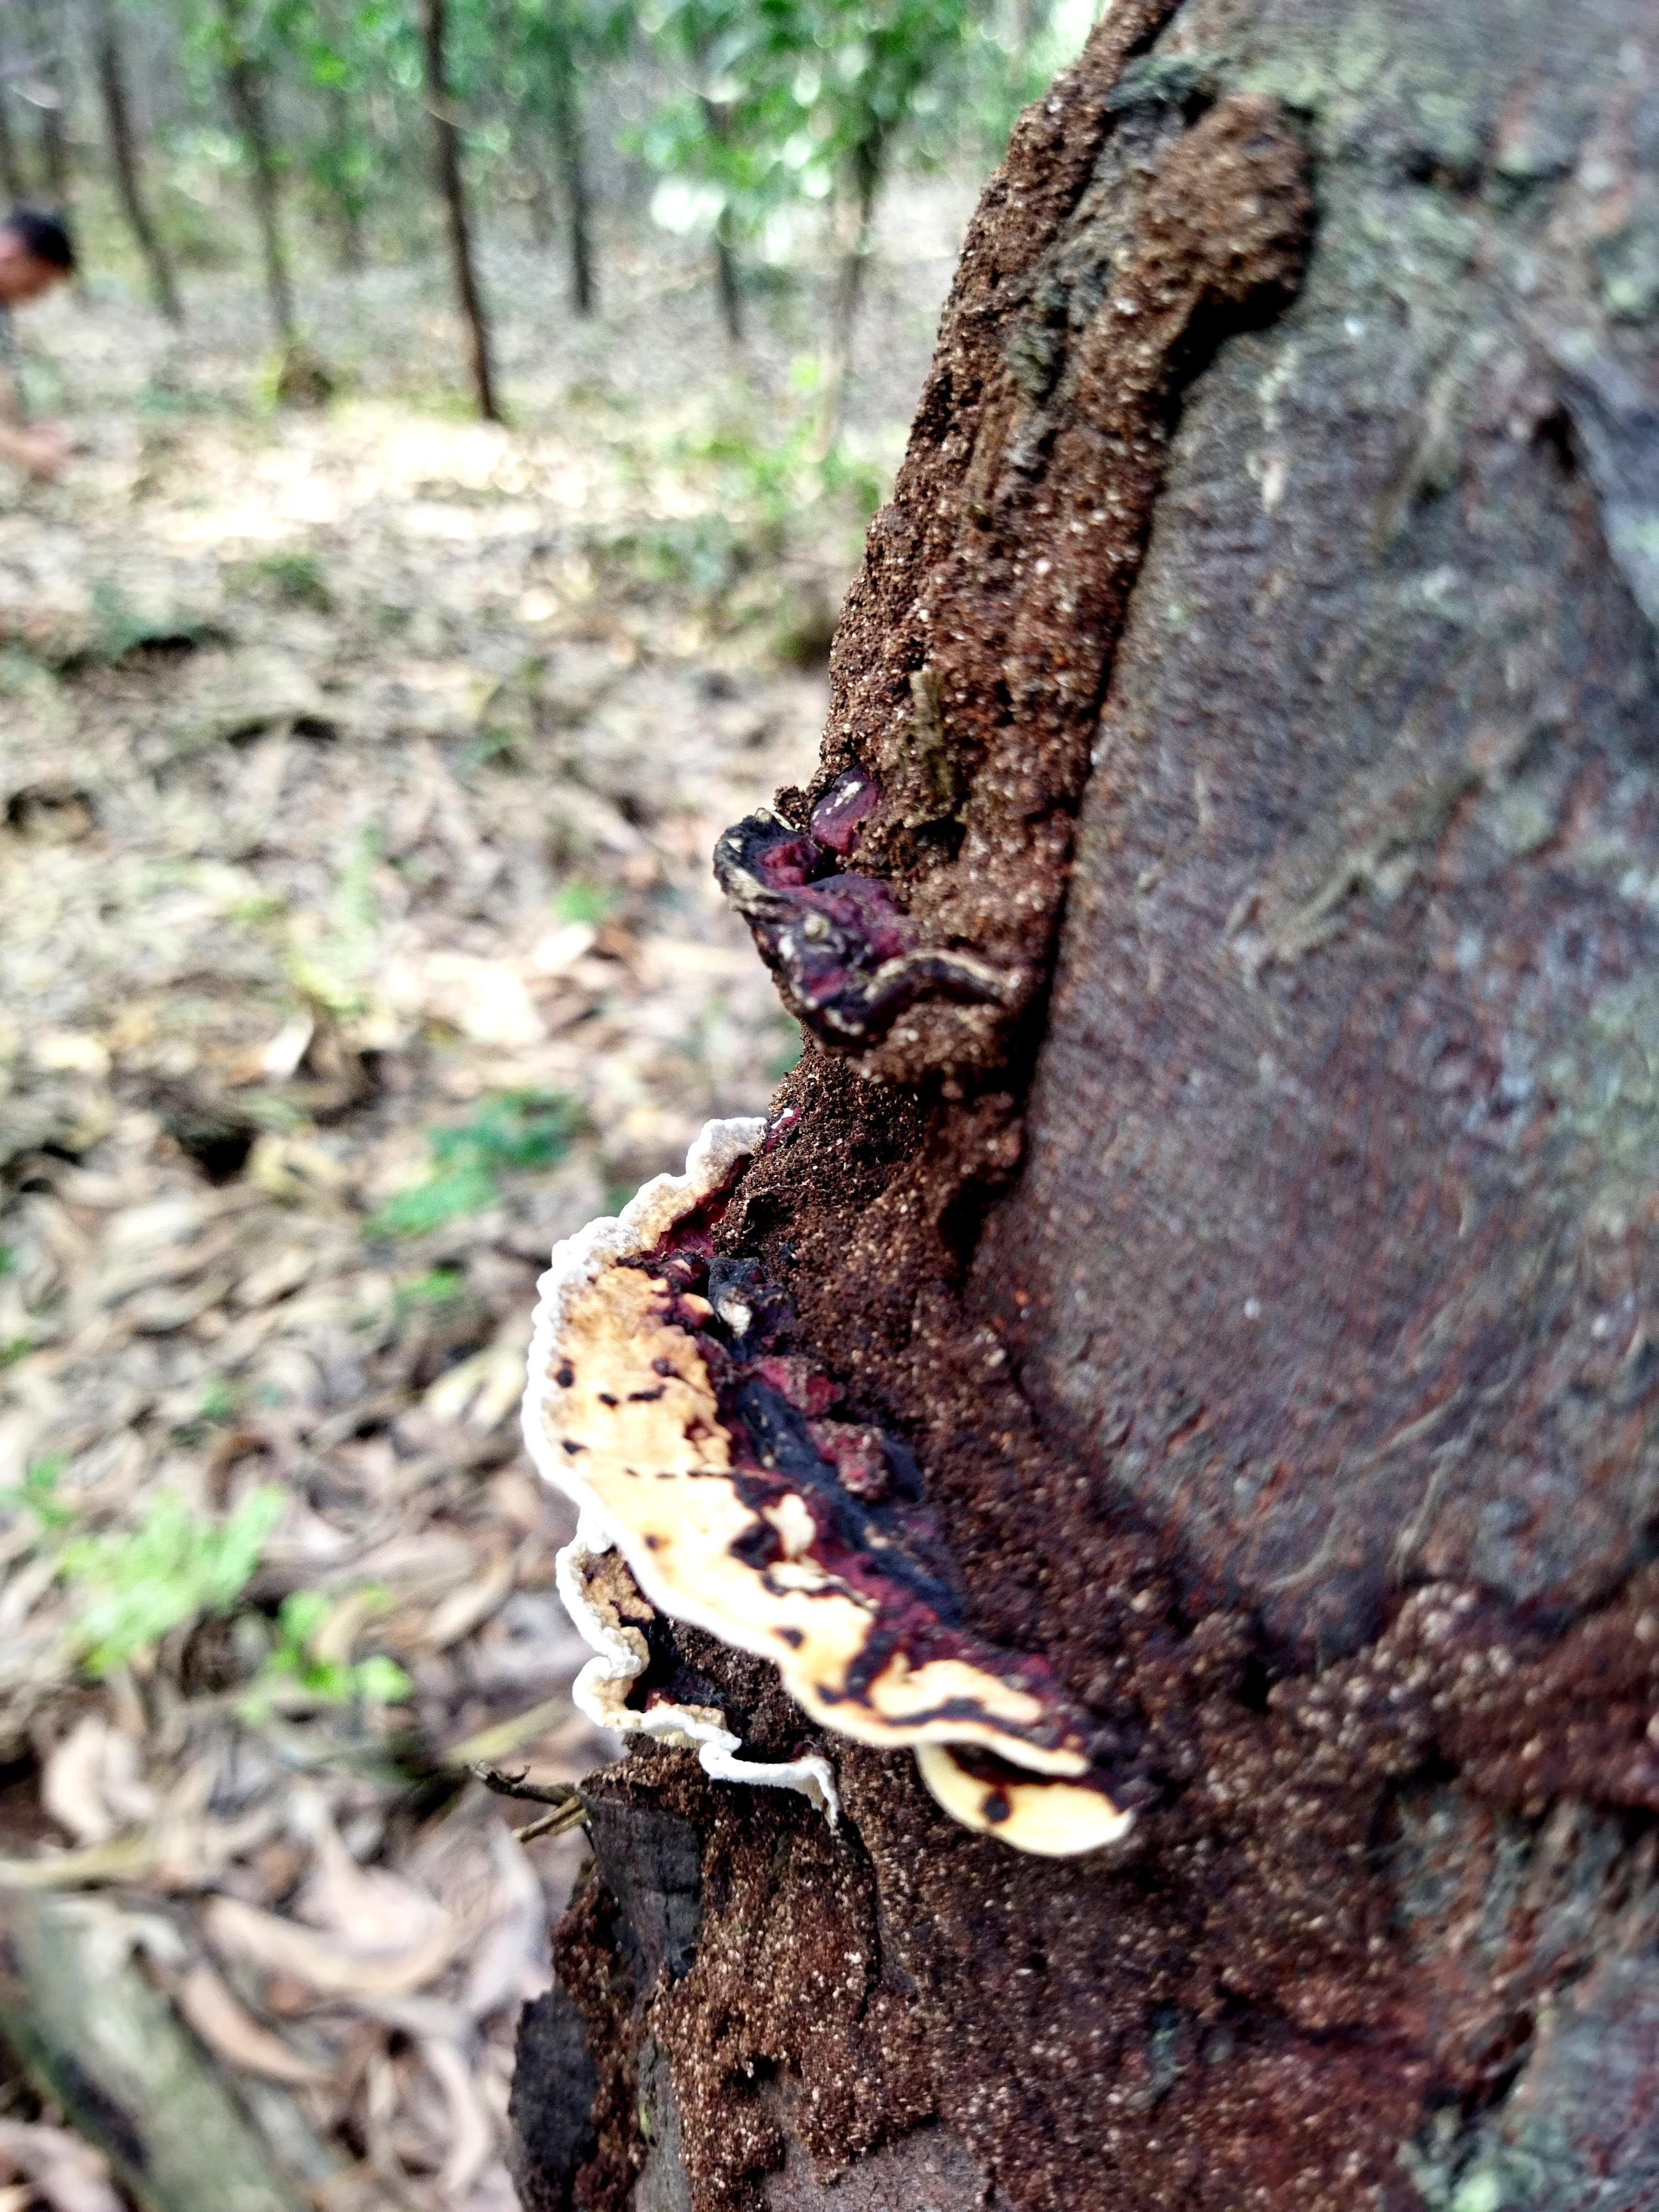Ganoderma - Fruit Body: (511, 1113, 1133, 1933), (692, 780, 1018, 1022)
